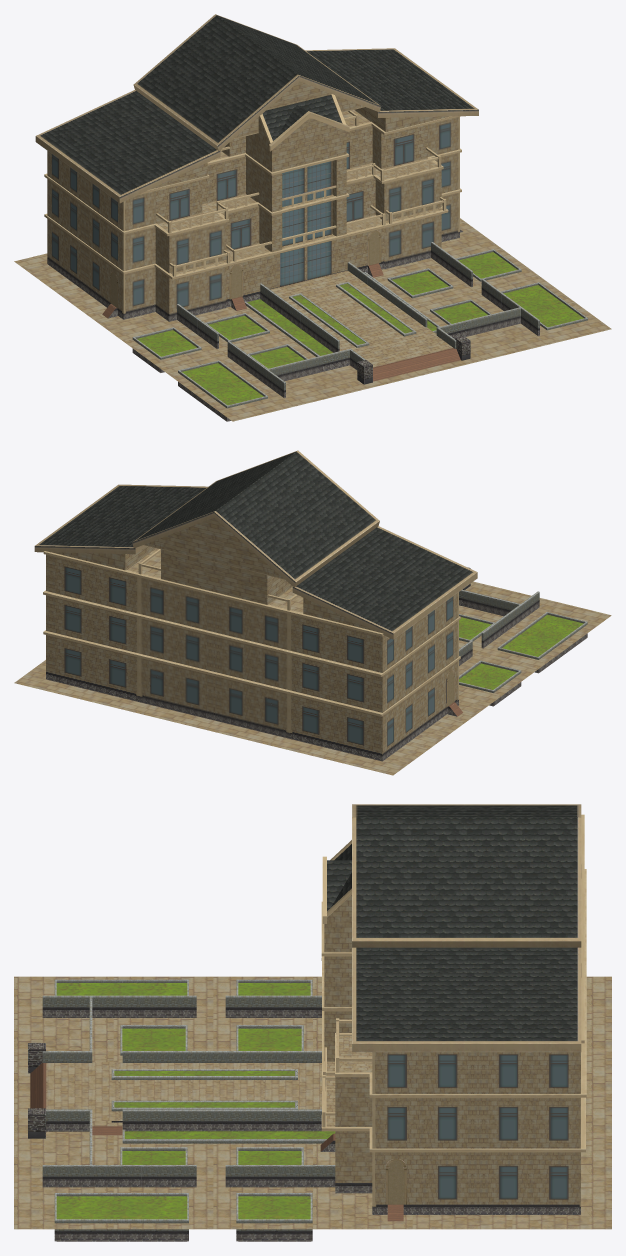
File: zhuzhai_haozhai01_lod.FBX
3 views of the same model, one above another, from view 1: azimuth 30°, elevation 25°; view 2: azimuth 150°, elevation 25°; view 3: azimuth 270°, elevation 25° (orthographic). The views are drawn at different scales.
Visible parts, largest first — view 1: zhuzhai_haozhai01_lod, caodi; view 2: zhuzhai_haozhai01_lod, caodi; view 3: zhuzhai_haozhai01_lod, caodi.
Part boxes in pixels (box(x1,y1,x2,y2)): zhuzhai_haozhai01_lod: box(14, 14, 611, 421); caodi: box(137, 252, 583, 405); zhuzhai_haozhai01_lod: box(14, 450, 611, 775); caodi: box(459, 614, 583, 689); zhuzhai_haozhai01_lod: box(14, 804, 611, 1241); caodi: box(56, 983, 335, 1219).
Bounding box in the file's own units: 6320 × 3543 × 6320.
